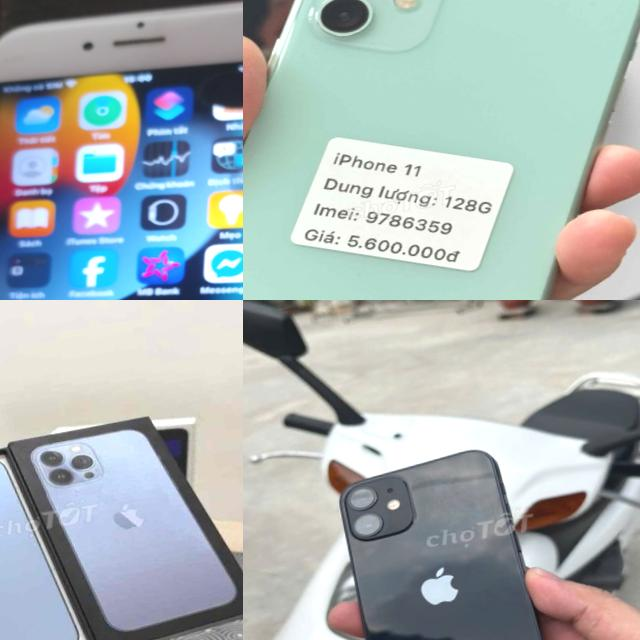screen_defect: (176, 38, 243, 127)
